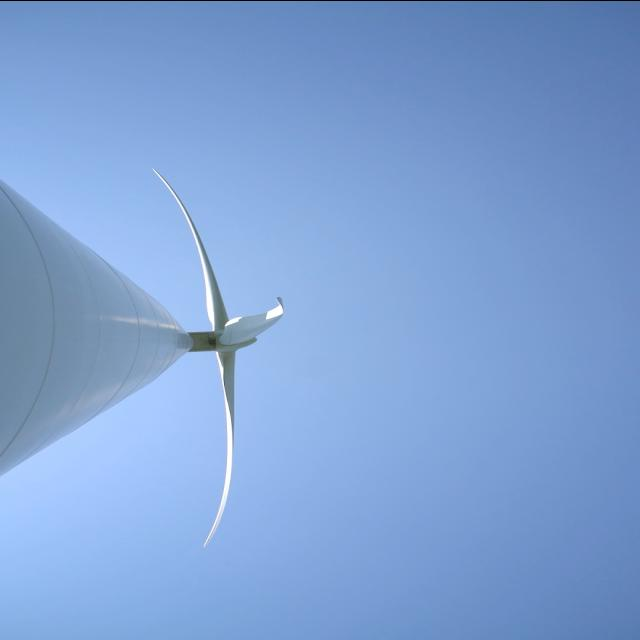blade 1: (222, 229, 294, 336)
blade 2: (138, 160, 212, 262)
blade 3: (188, 358, 270, 580)
